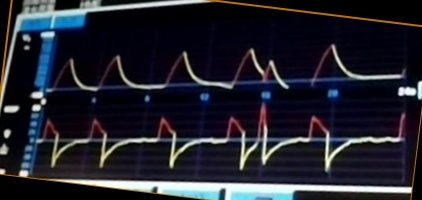Double_Triggering Flow: (67, 102, 370, 176)
Double_Triggering Volume: (68, 42, 368, 92)
